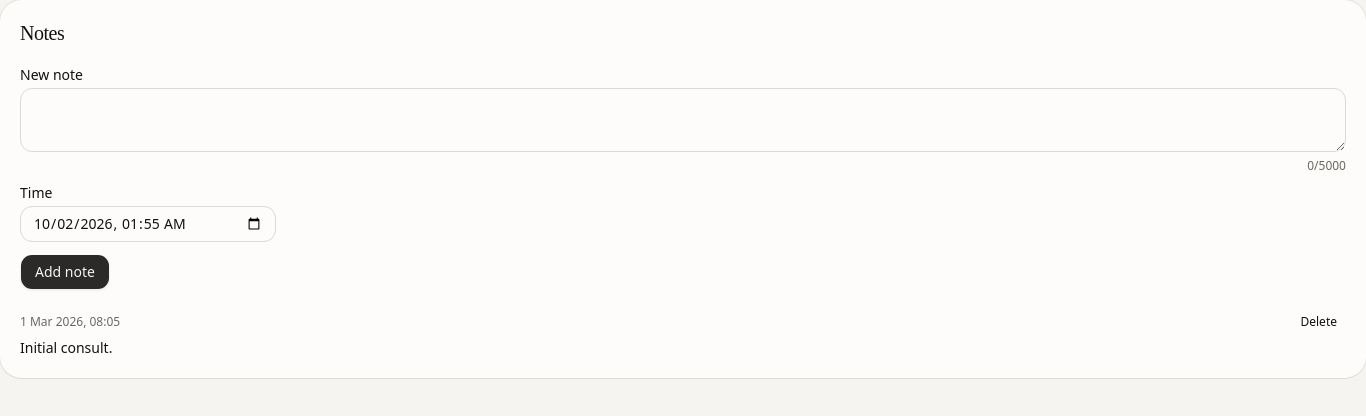
Test: PatientNotes › deleting › shows the error when delete fails and keeps the note
Click the button "Delete". click: (1319, 322)
box: [1292,310,1346,334]
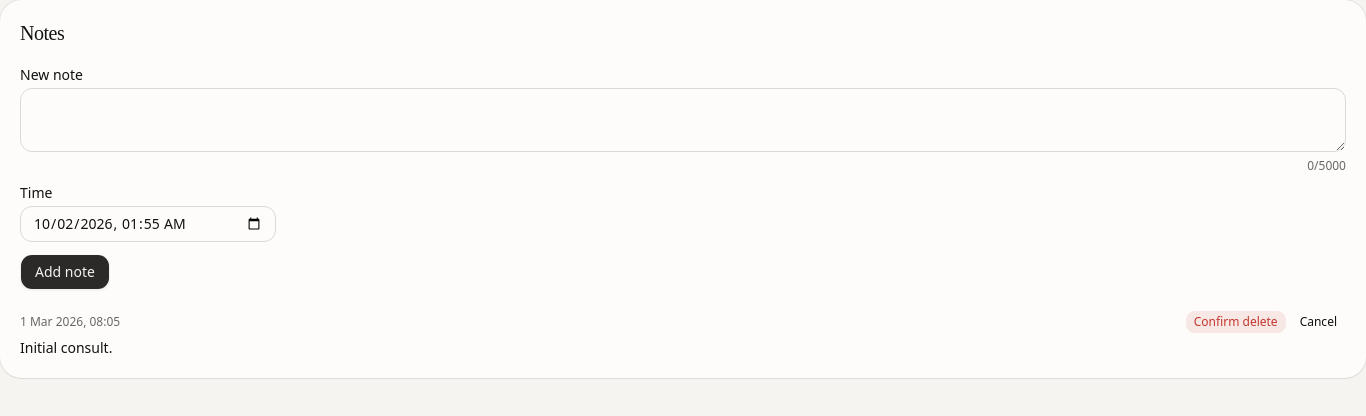
Click the button "Confirm delete". click: (1236, 322)
box: [1185,310,1287,334]
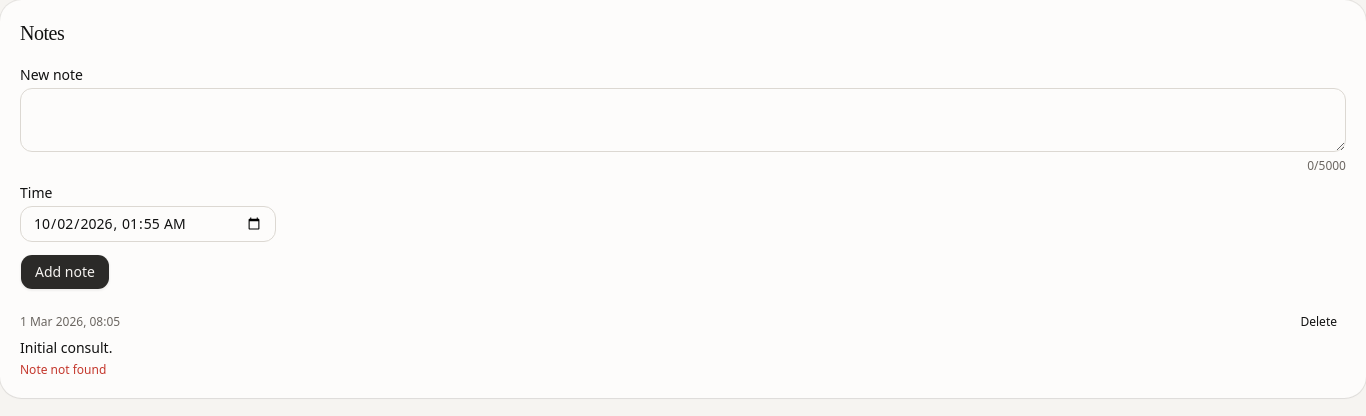
Expected: the text "Initial consult." is shown, [20,338,112,356]
Now the message reads "Note not found", box [20,360,106,378]
